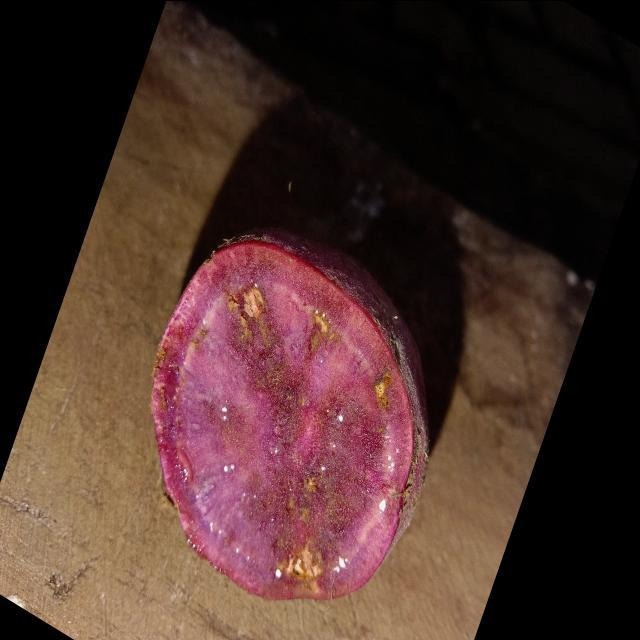Sick Sweet Potato_Tuber Rot: (152, 230, 429, 598)
